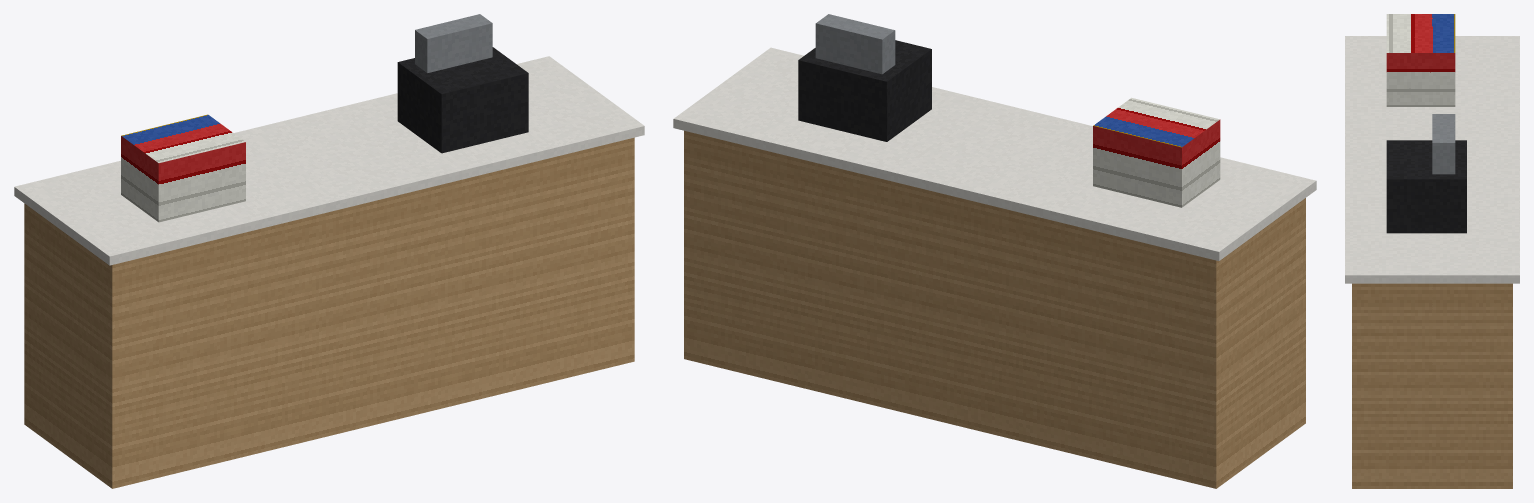
File: shop_counter.glb
The picture shows the model from 3 angles, left to right: view 1: azimuth 30°, elevation 25°; view 2: azimuth 150°, elevation 25°; view 3: azimuth 270°, elevation 25°; orthographic projection. The views are drawn at different scales.
Parts seen in each view (by area): view 1: shop_counter; view 2: shop_counter; view 3: shop_counter.
Part boxes in pixels (x1,y1,x2,y2): shop_counter: [14, 14, 644, 488]; shop_counter: [673, 14, 1316, 488]; shop_counter: [1345, 14, 1519, 488].
Size of the model in its own units: 2.46 by 1.45 by 0.76.
Materials: 5 (5 with a texture image).
